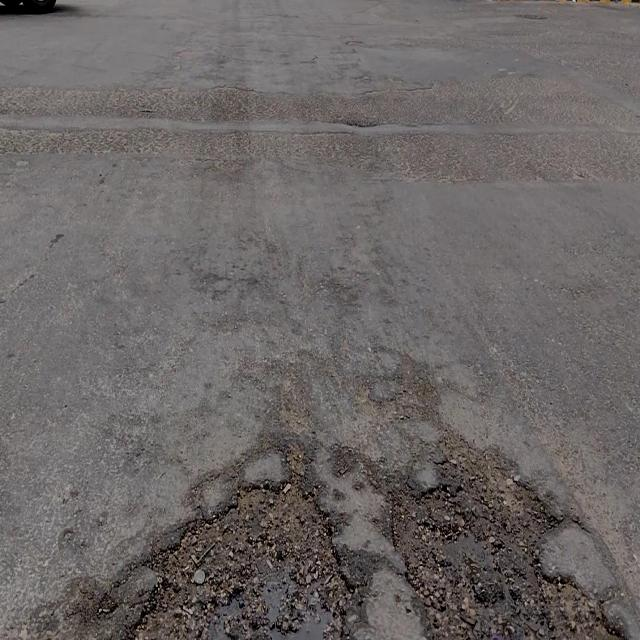Potholes: (385, 429, 626, 640), (118, 476, 360, 640)
